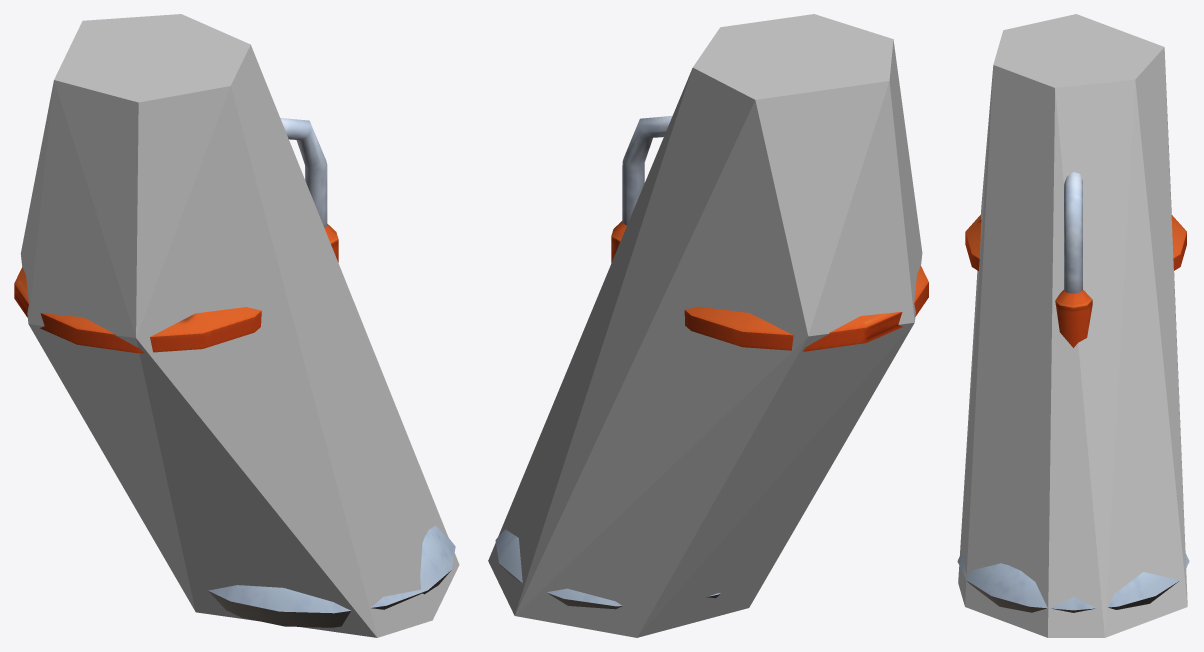
Rendered from SM_LampTable01.fbx.
3 renders of one model, left to right at view 1: azimuth 30°, elevation 25°; view 2: azimuth 150°, elevation 25°; view 3: azimuth 270°, elevation 25°, orthographic. The views are drawn at different scales.
Visible parts, largest first — view 1: SM_LampTable01_ConvexHulls, SM_LampTable01; view 2: SM_LampTable01_ConvexHulls, SM_LampTable01; view 3: SM_LampTable01_ConvexHulls, SM_LampTable01.
Boxes of the visible parts, x1,y1,x2,y2 form: SM_LampTable01_ConvexHulls: (20, 14, 459, 637); SM_LampTable01: (14, 118, 455, 627); SM_LampTable01_ConvexHulls: (488, 14, 922, 637); SM_LampTable01: (495, 115, 928, 609); SM_LampTable01_ConvexHulls: (958, 14, 1187, 637); SM_LampTable01: (957, 172, 1189, 612).
Size of the model in its own units: 35.63 by 20.99 by 46.66.
Materials: 2 (1 with a texture image).
